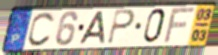0: (142, 7, 167, 45)
6: (54, 10, 79, 47)
A: (78, 10, 106, 45)
C: (27, 11, 57, 48)
F: (161, 6, 198, 45)
P: (105, 9, 136, 46)
